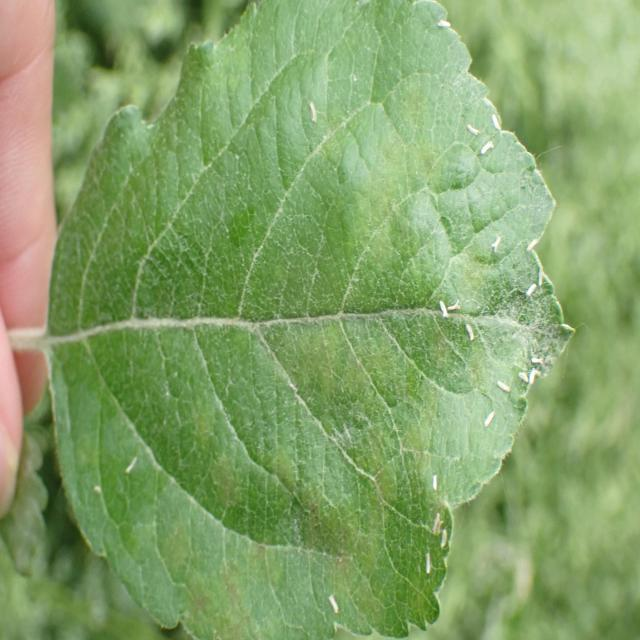scab: (95, 41, 578, 640)
